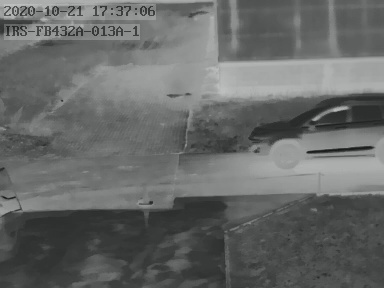vehicle: (245, 100, 384, 170)
